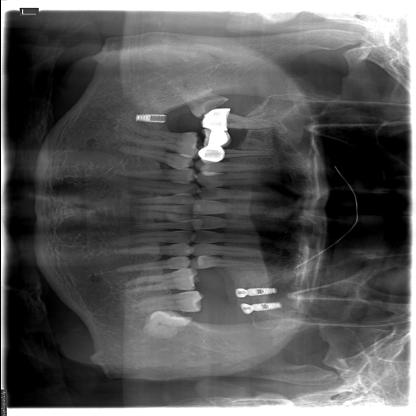Bicon: (129, 111, 171, 124), (249, 301, 284, 312), (247, 285, 279, 297)
